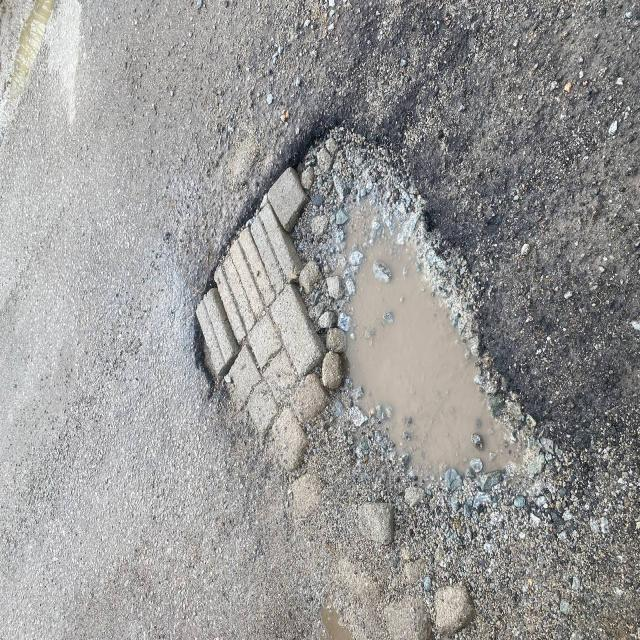pothole: (164, 95, 552, 534)
